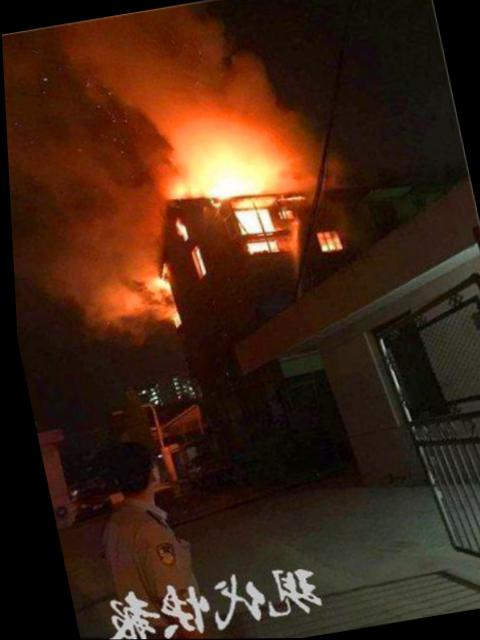fire: (157, 99, 301, 203), (126, 272, 176, 325), (235, 206, 274, 233), (246, 237, 275, 253), (189, 244, 204, 274), (318, 228, 339, 249), (175, 216, 188, 241)
